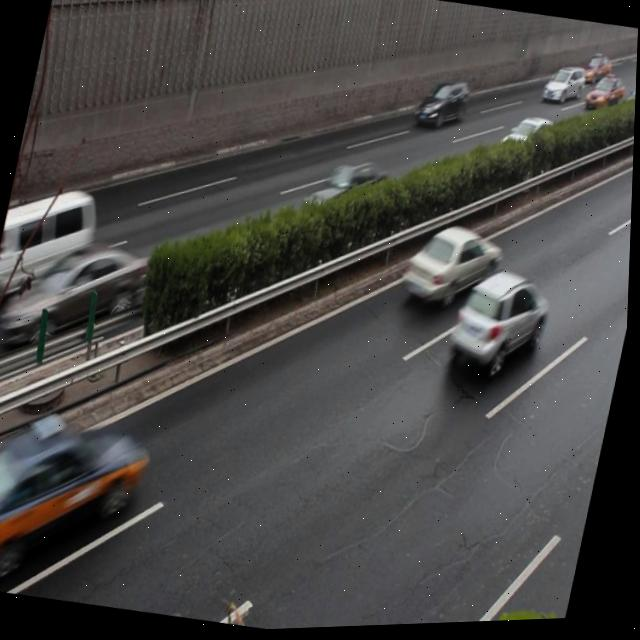car: (0, 398, 155, 587), (2, 229, 166, 357), (447, 265, 556, 374), (400, 218, 507, 317), (295, 158, 395, 248), (491, 113, 563, 181), (413, 76, 472, 141)
truck: (0, 179, 107, 319)
